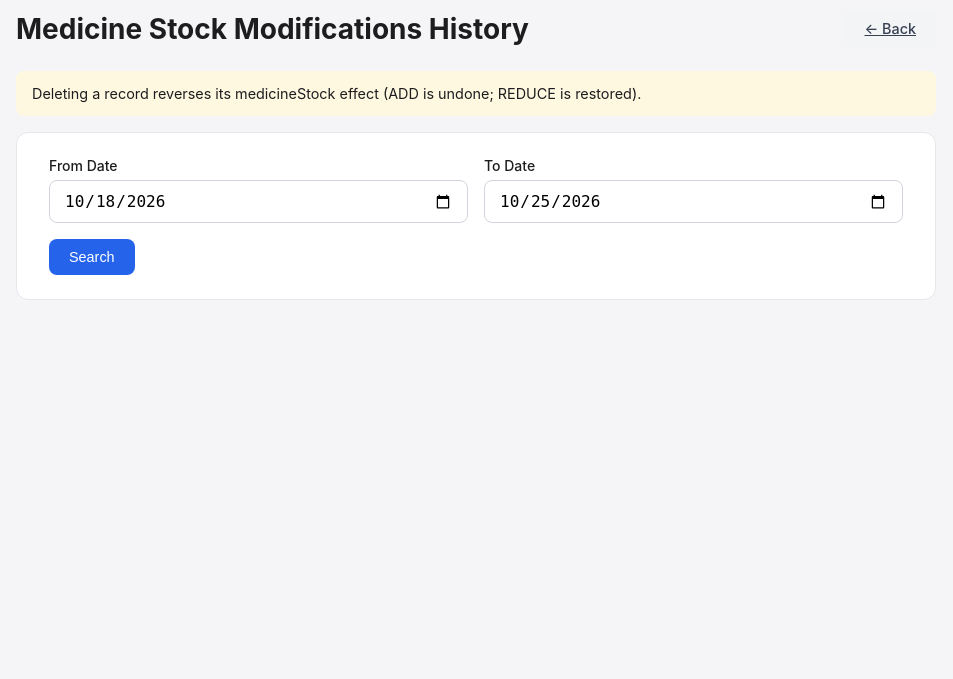
Test case: ViewMedicineStockAdjustments — search › shows results table when records are returned
The image size is (953, 679).
Click the button "Search".
click(92, 257)  # box [49, 239, 135, 275]
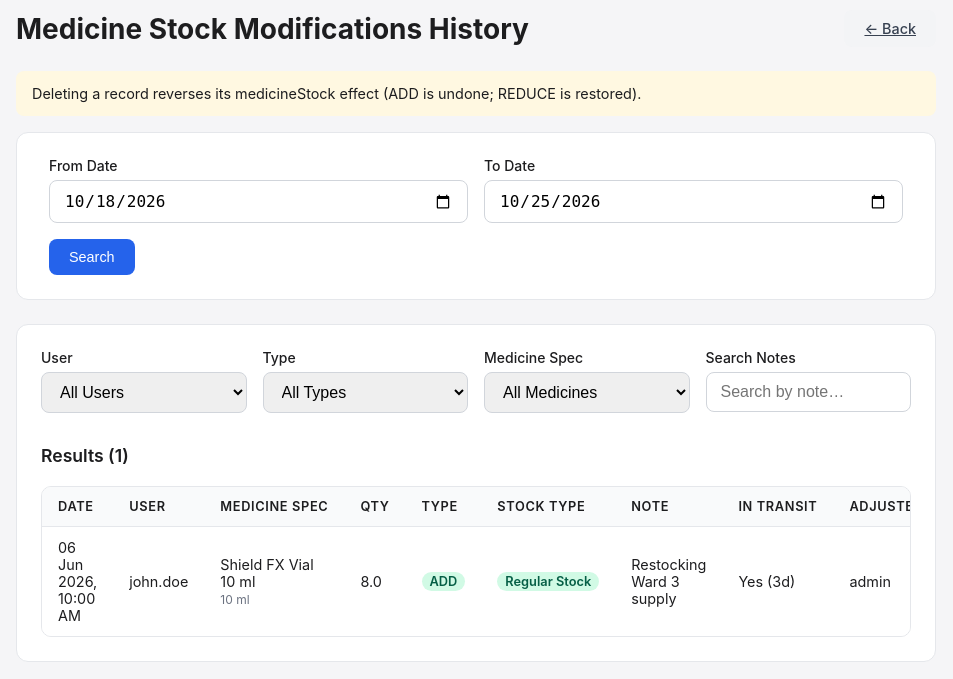
Expected: the table is shown, [42, 487, 911, 636]
